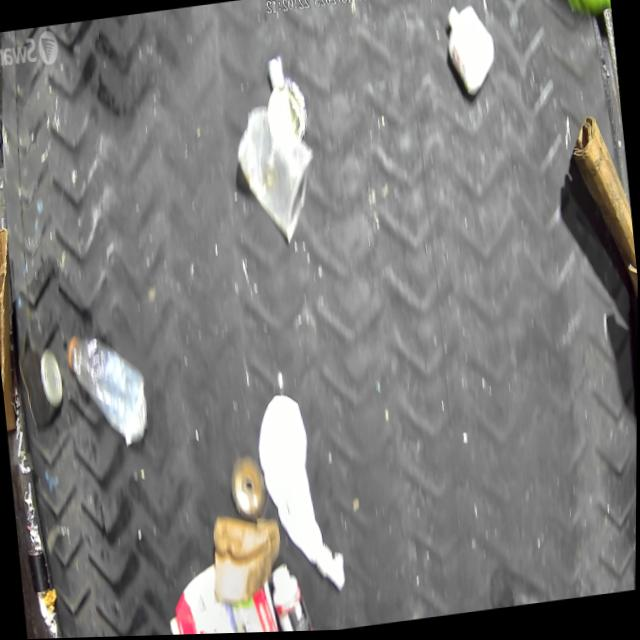can: (13, 342, 67, 434)
plastic_bottle: (60, 325, 154, 459)
